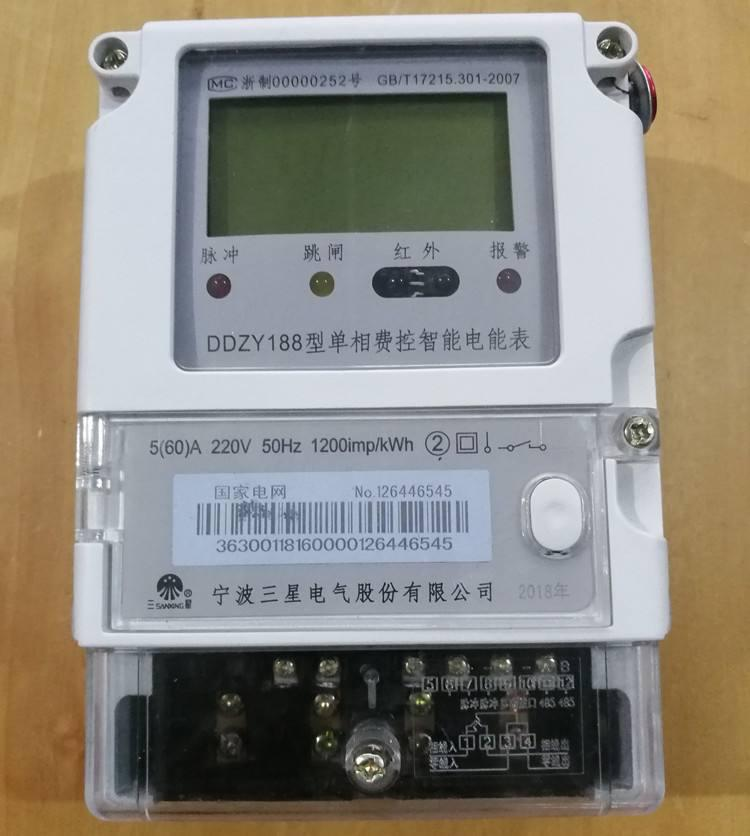digital: (72, 13, 668, 647)
